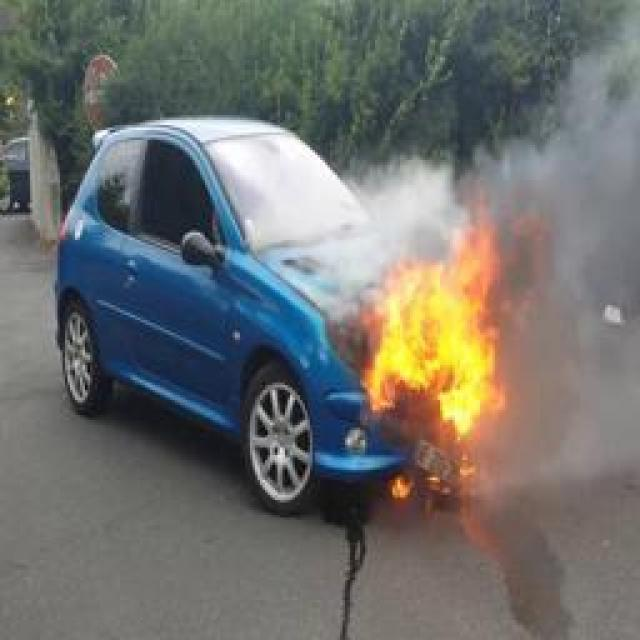Fire: (362, 182, 510, 436)
